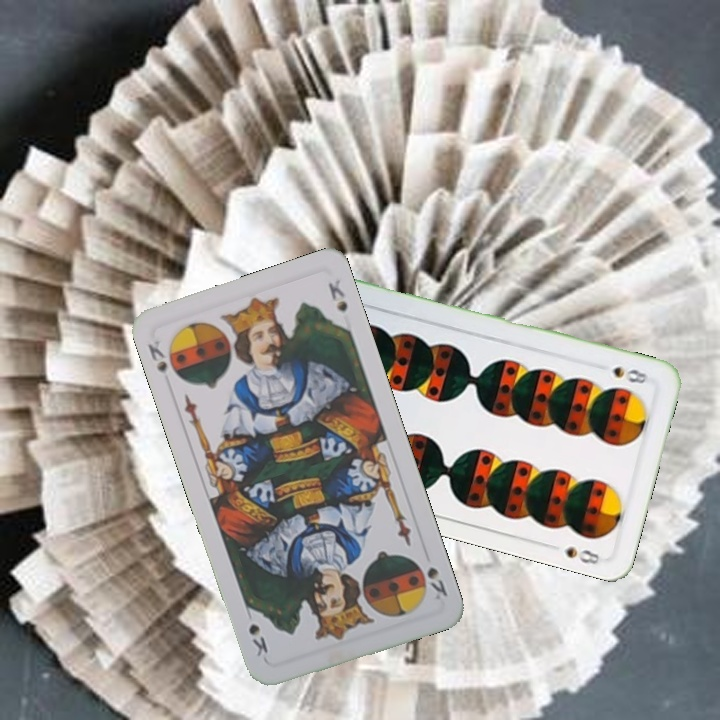S8: (608, 362, 656, 388)
SK: (411, 554, 450, 603), (143, 336, 183, 382)
